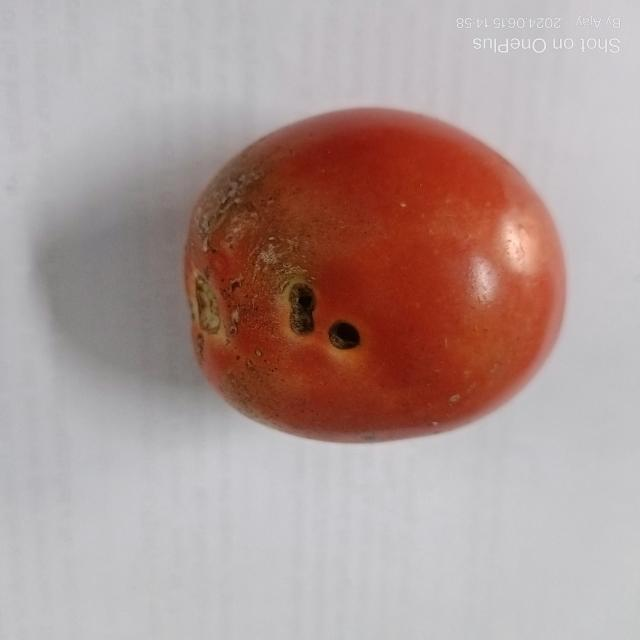fruitworm_bore: (266, 259, 371, 363)
